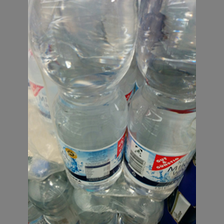water: (31, 1, 138, 193), (123, 1, 195, 198)
